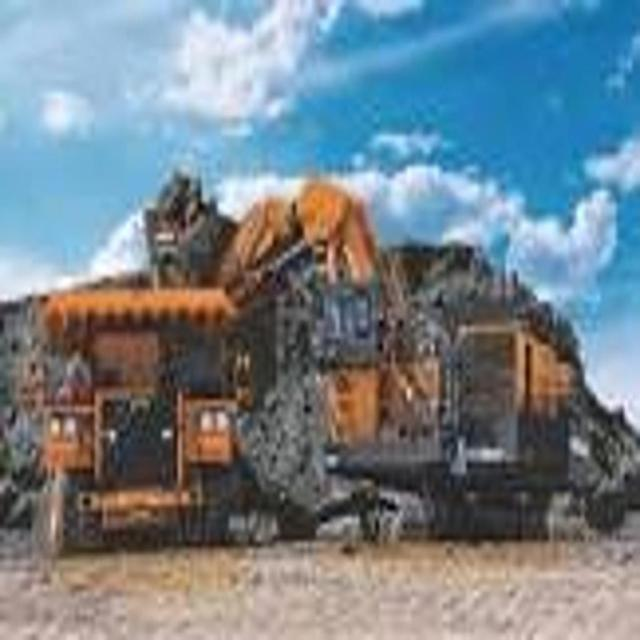dump_truck: (42, 267, 250, 587)
